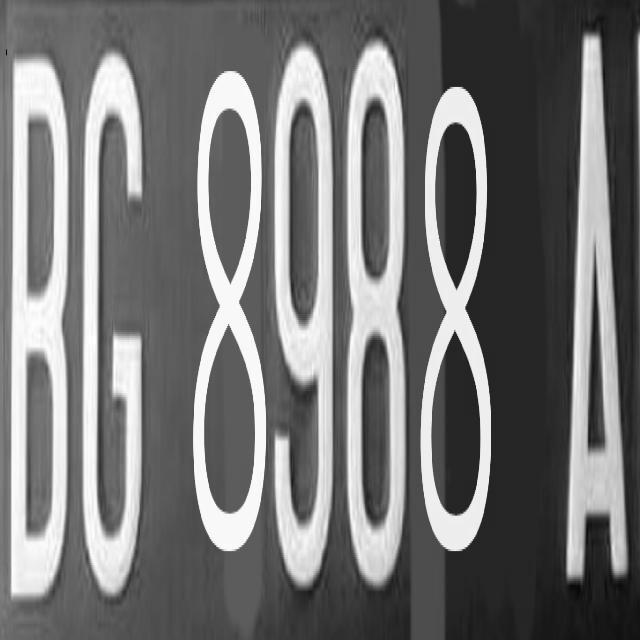8: (340, 18, 414, 594), (421, 75, 498, 576), (190, 63, 266, 550)
9: (273, 25, 341, 588)
A: (553, 20, 640, 598)
B: (3, 36, 75, 606)
G: (77, 38, 156, 604)
